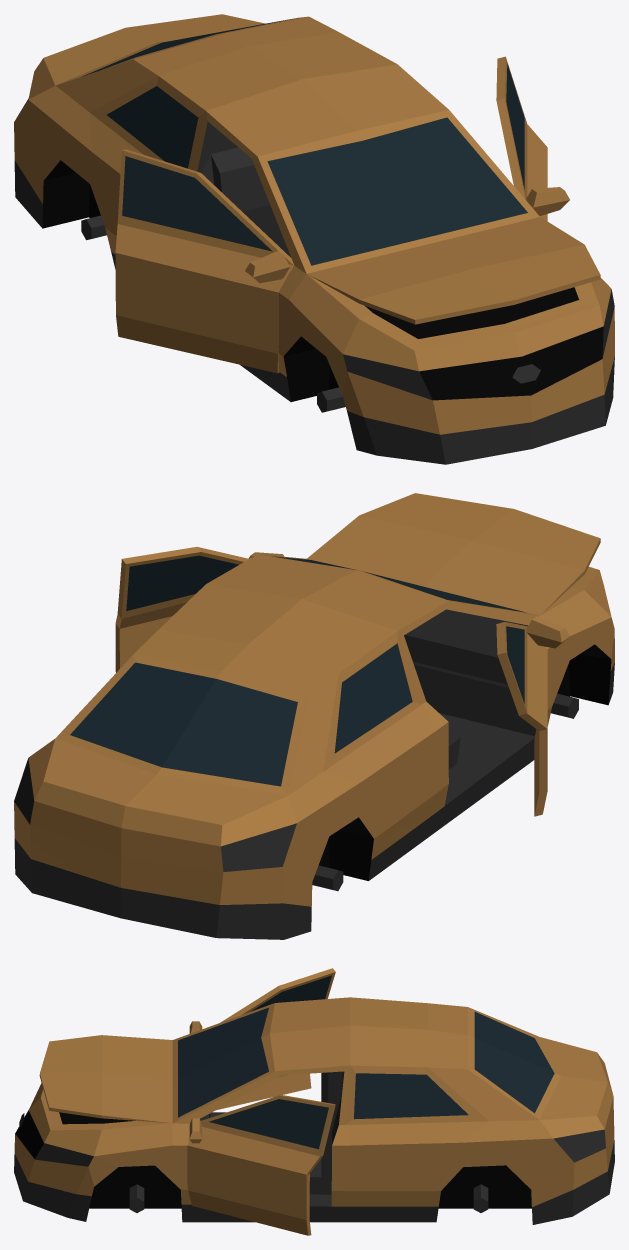
Rendered from car-broken.glb.
3 views of the same model, one above another, from view 1: azimuth 30°, elevation 25°; view 2: azimuth 150°, elevation 25°; view 3: azimuth 270°, elevation 25° (orthographic). The views are drawn at different scales.
Parts seen in each view (by area): view 1: car-broken; view 2: car-broken; view 3: car-broken.
Boxes of the visible parts, x1,y1,x2,y2 form: car-broken: (14, 14, 614, 464); car-broken: (14, 493, 614, 939); car-broken: (14, 968, 614, 1235).
Size of the model in its own units: 2.86 by 1.32 by 4.72.
Materials: 1 (1 with a texture image).
